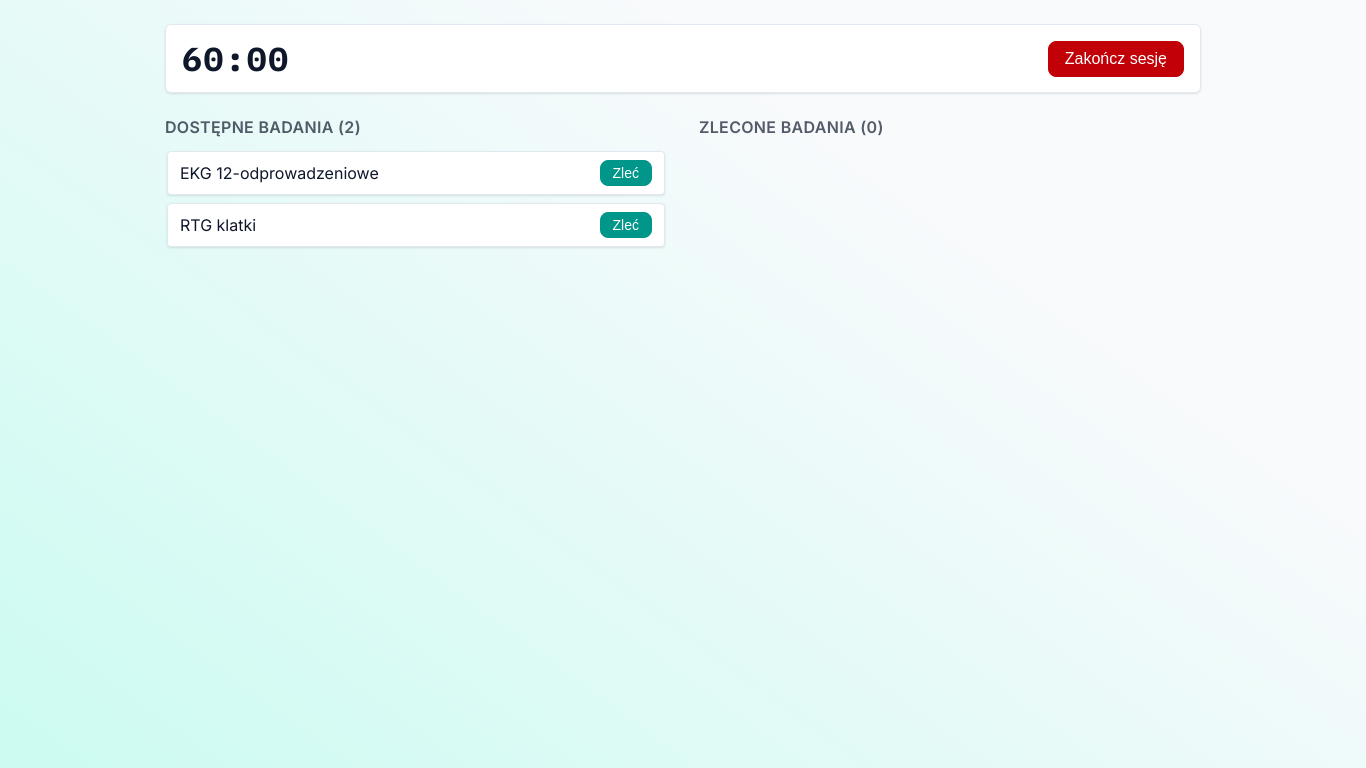
Test case: SessionView › shows Poprawne badge after clicking Zleć on a correct test
Click the 1st button "Zleć".
click(626, 173)  # box [600,160,652,186]
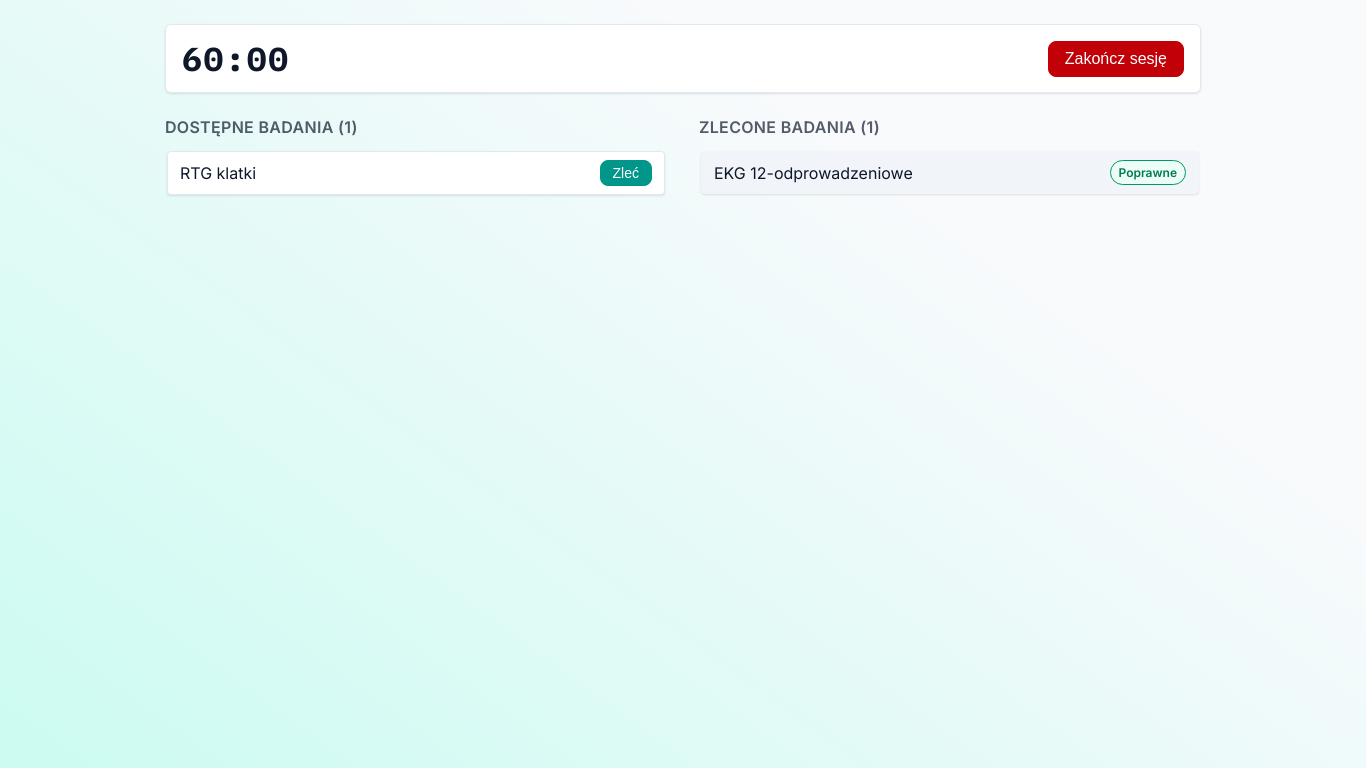
Check: the text "Poprawne" is shown, box [1110,160,1186,185]
